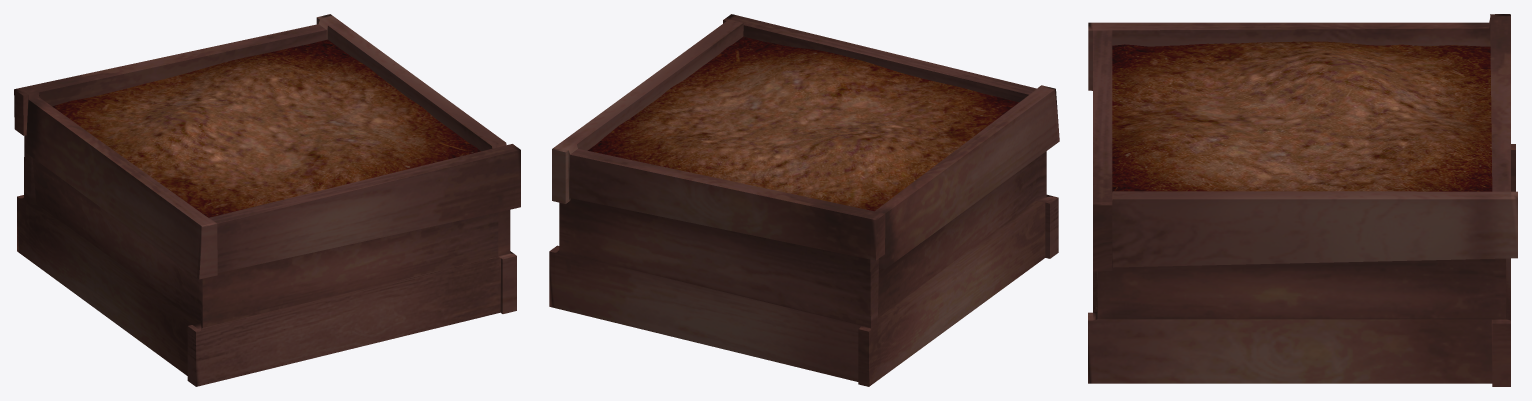
The model's file is PlantBox.fbx.
3 views of the same model, side by side, from view 1: azimuth 30°, elevation 25°; view 2: azimuth 150°, elevation 25°; view 3: azimuth 270°, elevation 25° (orthographic). The views are drawn at different scales.
Visible parts, largest first — view 1: Cube, Cube.001; view 2: Cube, Cube.001; view 3: Cube, Cube.001.
Boxes of the visible parts, x1,y1,x2,y2 form: Cube: (14,14,520,386); Cube.001: (52,39,480,217); Cube: (549,14,1059,386); Cube.001: (587,36,1018,211); Cube: (1088,14,1517,386); Cube.001: (1112,41,1492,191).
Size of the model in its own units: 2.07 by 1.01 by 2.06.
2 materials, 2 textured.
